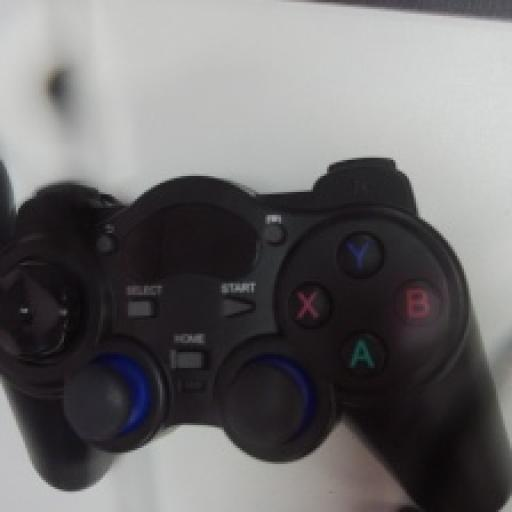game pad: (0, 165, 510, 510)
